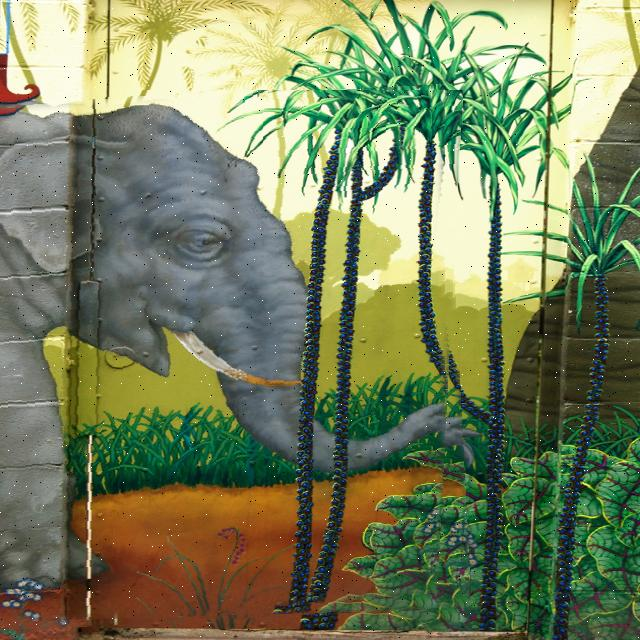elephant: (1, 90, 464, 623)
